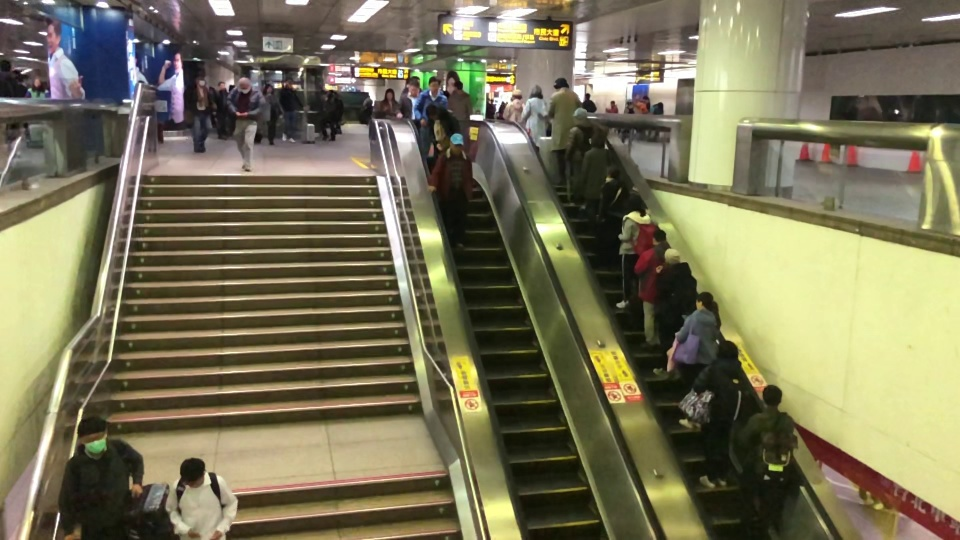person_head: (73, 417, 109, 455), (175, 451, 207, 488), (760, 380, 785, 412), (716, 340, 739, 369), (693, 291, 715, 314), (623, 189, 644, 211), (588, 129, 609, 150), (661, 245, 682, 266), (234, 75, 253, 95), (572, 104, 590, 125), (649, 227, 667, 248), (448, 131, 465, 153), (424, 101, 441, 121), (425, 74, 442, 93), (528, 82, 545, 101), (604, 161, 620, 181), (554, 76, 569, 93), (407, 81, 421, 97), (509, 87, 523, 103), (29, 76, 44, 90), (196, 73, 209, 89), (382, 87, 396, 101), (262, 83, 274, 96), (0, 59, 12, 72), (282, 78, 293, 89), (325, 89, 335, 100), (452, 80, 463, 90), (19, 73, 28, 84), (217, 81, 225, 90), (641, 95, 650, 103), (655, 102, 664, 110), (583, 91, 590, 100), (626, 99, 632, 106), (334, 92, 339, 100), (489, 98, 494, 104), (500, 100, 505, 106), (610, 100, 615, 106), (366, 94, 370, 98)
person_vbox: (727, 380, 796, 540), (60, 416, 146, 540), (690, 340, 747, 489), (160, 451, 239, 540), (652, 244, 699, 379), (676, 290, 721, 428), (425, 130, 473, 249), (631, 227, 669, 352), (614, 189, 652, 309), (545, 75, 584, 185), (592, 161, 628, 272), (225, 75, 265, 172), (578, 129, 614, 236), (565, 104, 596, 202), (179, 72, 211, 155), (279, 78, 309, 147), (519, 82, 550, 145), (425, 101, 460, 151), (411, 74, 447, 122), (262, 83, 284, 146), (446, 80, 472, 121), (318, 89, 337, 142), (501, 86, 529, 121), (619, 98, 639, 145), (214, 81, 229, 141), (400, 81, 424, 118), (373, 87, 400, 119), (0, 58, 20, 98), (633, 95, 650, 141), (646, 101, 664, 143), (23, 76, 49, 99), (334, 91, 344, 134), (360, 93, 373, 126), (581, 91, 596, 112), (16, 73, 28, 98), (485, 98, 495, 118), (604, 100, 618, 114), (496, 99, 505, 120)
